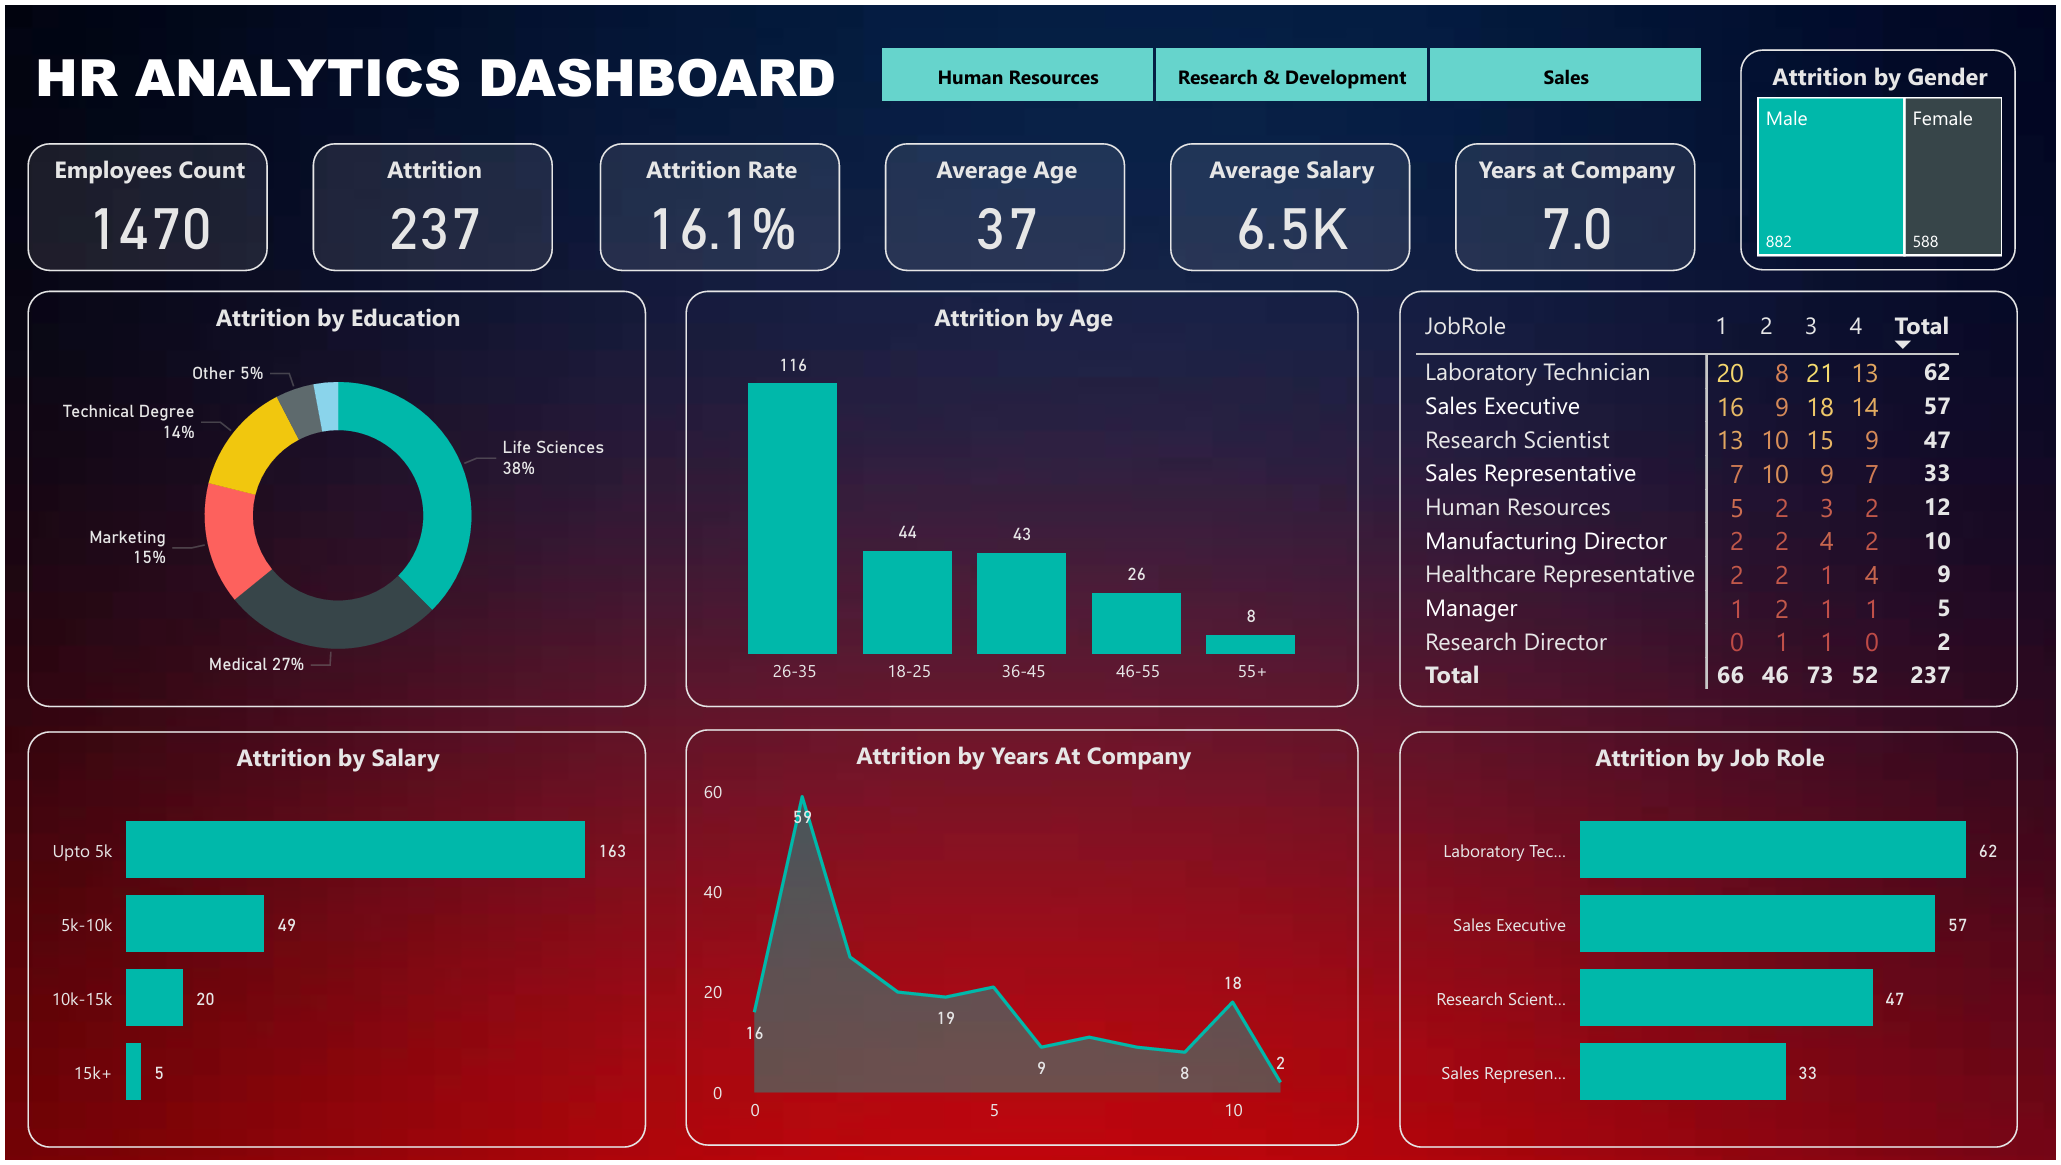

This screenshot's page, from the dashboard's own definition file:
{"tool":"powerbi","page":{"name":"Page 1","canvas":[1280,720],"ordinal":0},"visuals":[{"type":"card","title":"Attrition Rate","fields":{"Values":["HR_Analytics.AttritionRate"]},"box":[370.1,85.4,150.1,80],"z":0},{"type":"card","title":"Attrition","fields":{"Values":["Sum(HR_Analytics.AttritionCount)"]},"box":[192.1,85.4,150.1,80],"z":1000},{"type":"card","title":"Employees Count","fields":{"Values":["CountNonNull(HR_Analytics.EmpID)"]},"box":[13.7,85.8,150.5,79.6],"z":2000},{"type":"card","title":"Average Age","fields":{"Values":["Avg(HR_Analytics.Age)"]},"box":[548.1,85.4,150.1,80],"z":3000},{"type":"card","title":"Years at Company","fields":{"Values":["Avg(HR_Analytics.YearsAtCompany)"]},"box":[904.1,85.4,150.1,80],"z":4000},{"type":"card","title":"Average Salary","fields":{"Values":["Avg(HR_Analytics.MonthlyIncome)"]},"box":[726.1,85.4,150.1,80],"z":5000},{"type":"textbox","box":[13.3,15.6,579.5,55.6],"z":6000},{"type":"treemap","title":"Attrition by Gender","fields":{"Group":["HR_Analytics.Gender"],"Values":["CountNonNull(HR_Analytics.Attrition)"]},"box":[1082.3,27.8,172.4,137.9],"z":7000},{"type":"donutChart","title":"Attrition by Education","fields":{"Y":["Sum(HR_Analytics.AttritionCount)"],"Category":["HR_Analytics.EducationField"]},"box":[13.7,177.9,385.6,259.9],"z":8000},{"type":"clusteredColumnChart","title":"Attrition by Age","fields":{"Y":["Sum(HR_Analytics.AttritionCount)"],"Category":["HR_Analytics.AgeGroup"]},"box":[424.3,177.9,420,260],"z":9000},{"type":"pivotTable","fields":{"Rows":["HR_Analytics.JobRole"],"Columns":["HR_Analytics.JobSatisfaction"],"Values":["Sum(HR_Analytics.AttritionCount)"]},"box":[869.4,177.9,385.6,260],"z":10000},{"type":"clusteredBarChart","title":"Attrition by Salary","fields":{"Category":["HR_Analytics.SalarySlab"],"Y":["Sum(HR_Analytics.AttritionCount)"]},"box":[13.7,452.7,385.6,259.9],"z":11000},{"type":"areaChart","title":"Attrition by Years At Company","fields":{"Category":["HR_Analytics.YearsAtCompany"],"Y":["Sum(HR_Analytics.AttritionCount)"]},"box":[424.3,451,420,260],"z":12000},{"type":"clusteredBarChart","title":"Attrition by Job Role","fields":{"Category":["HR_Analytics.JobRole"],"Y":["Sum(HR_Analytics.AttritionCount)"]},"box":[869.4,452.7,385.6,260],"z":13000},{"type":"slicer","fields":{"Values":["HR_Analytics.Department"]},"box":[521.1,19.9,560.9,47.3],"z":14000}]}

Visuals, with their boxes in screenshot pixels (x1, y1, x2, y2), scaled from the page's 1280x720 canvas onto the 2061x1165 screenshot:
"Attrition Rate" card: locate(596, 138, 838, 268)
"Attrition" card: locate(309, 138, 551, 268)
"Employees Count" card: locate(22, 139, 264, 268)
"Average Age" card: locate(883, 138, 1124, 268)
"Years at Company" card: locate(1456, 138, 1697, 268)
"Average Salary" card: locate(1169, 138, 1411, 268)
textbox: locate(21, 25, 955, 115)
"Attrition by Gender" treemap: locate(1743, 45, 2020, 268)
"Attrition by Education" donutChart: locate(22, 288, 643, 708)
"Attrition by Age" clusteredColumnChart: locate(683, 288, 1359, 709)
pivotTable - HR_Analytics.JobRole x HR_Analytics.JobSatisfaction: locate(1400, 288, 2021, 709)
"Attrition by Salary" clusteredBarChart: locate(22, 732, 643, 1153)
"Attrition by Years At Company" areaChart: locate(683, 730, 1359, 1150)
"Attrition by Job Role" clusteredBarChart: locate(1400, 732, 2021, 1153)
slicer - HR_Analytics.Department: locate(839, 32, 1742, 109)
